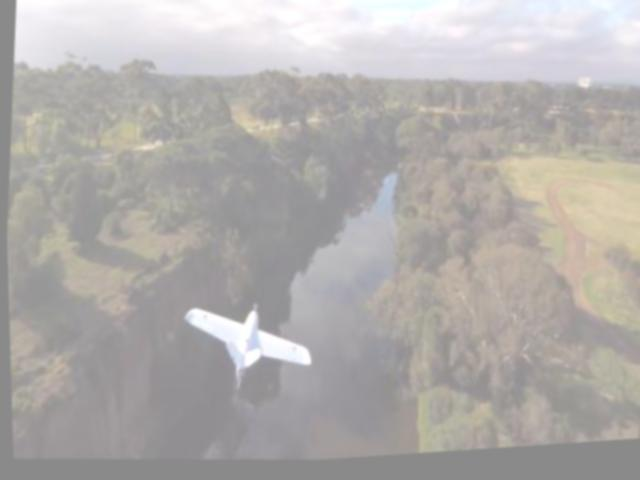uav: (174, 299, 316, 403)
